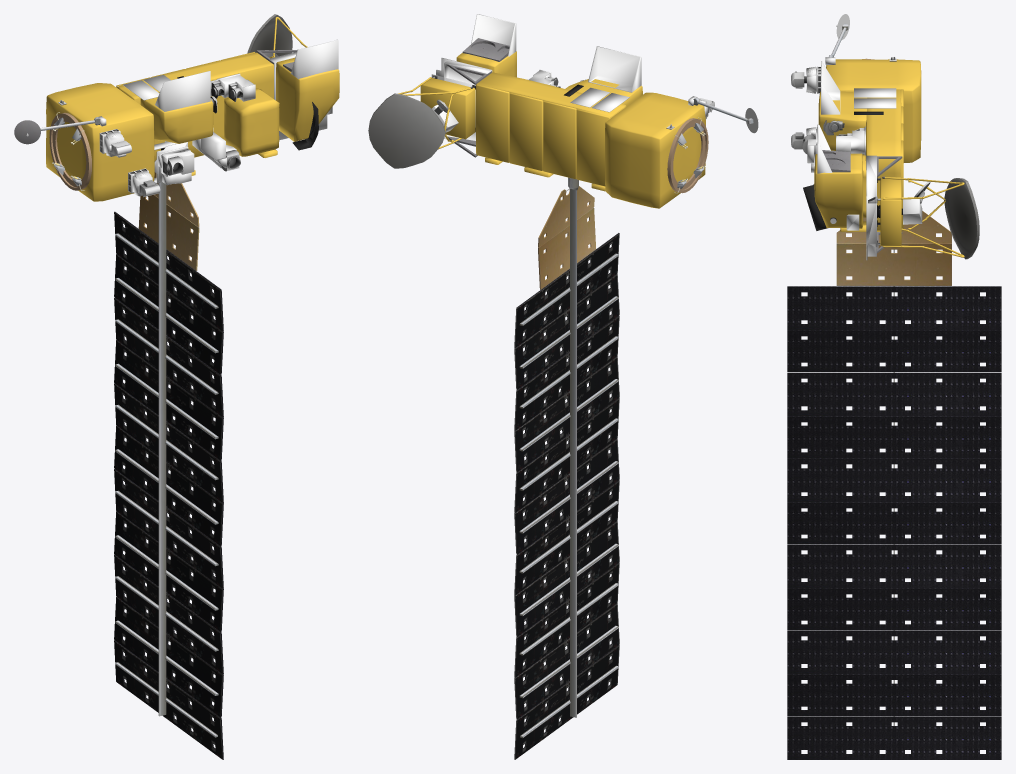
Rendered from Aqua.glb.
The picture shows the model from 3 angles, left to right: view 1: azimuth 30°, elevation 25°; view 2: azimuth 150°, elevation 25°; view 3: azimuth 270°, elevation 25°; orthographic projection. The views are drawn at different scales.
Parts seen in each view (by area): view 1: panel, foil_gold, foil_silver, tex_01, instruments, ring; view 2: panel, foil_gold, tex_01, foil_silver, ring; view 3: shiny_panel, foil_gold, panel, foil_silver, tex_01, instruments, black_krinkle.
Part boxes in pixels (x1,y1,x2,y2): panel: [114, 172, 223, 759]; foil_gold: [46, 17, 339, 201]; foil_silver: [98, 39, 338, 196]; tex_01: [14, 14, 297, 144]; instruments: [58, 50, 278, 197]; ring: [49, 112, 91, 190]; panel: [514, 177, 619, 759]; foil_gold: [398, 51, 705, 208]; tex_01: [368, 38, 758, 168]; foil_silver: [431, 14, 711, 140]; ring: [667, 117, 708, 193]; shiny_panel: [787, 287, 1001, 759]; foil_gold: [814, 59, 964, 257]; panel: [787, 211, 1001, 754]; foil_silver: [795, 57, 922, 260]; tex_01: [822, 14, 979, 259]; instruments: [791, 56, 930, 247]; black_krinkle: [803, 111, 883, 230].
Size of the model in its own units: 9.4 by 17.78 by 5.08.
11 materials, 4 textured.
